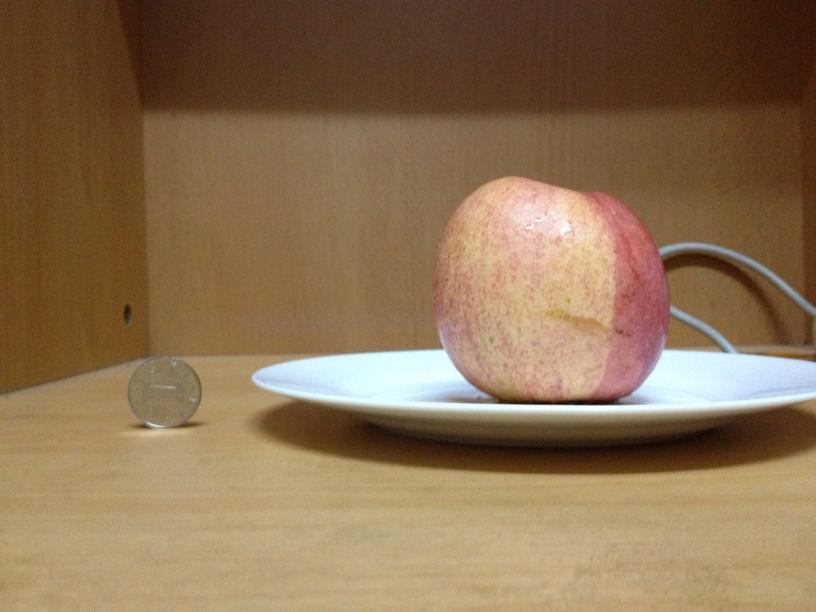apple: (429, 170, 671, 400)
coin: (126, 358, 202, 428)
